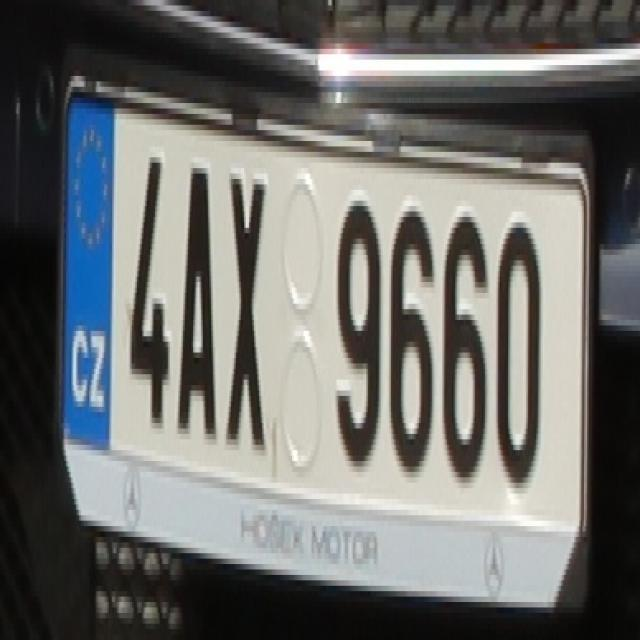0: (495, 206, 541, 488)
4: (129, 152, 170, 423)
6: (386, 206, 434, 467), (441, 206, 486, 467)
9: (335, 190, 381, 461)
A: (175, 163, 216, 434)
X: (221, 157, 269, 456)
